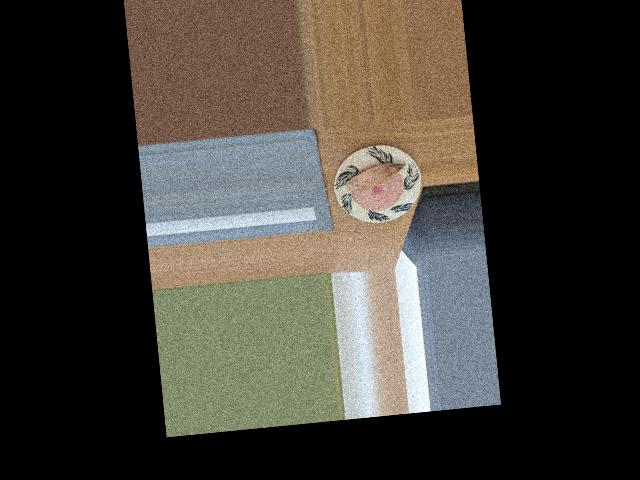sweet_potato: (346, 157, 402, 195)
